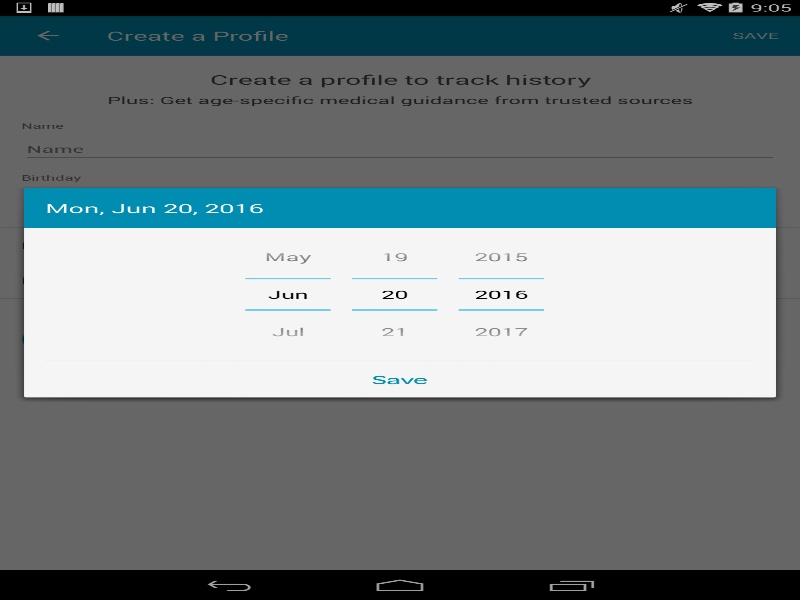Button: (24, 361, 776, 397), (458, 238, 544, 279), (458, 309, 544, 350), (245, 238, 330, 279), (245, 309, 330, 350), (352, 238, 437, 279), (352, 309, 437, 350)
Input: (458, 279, 544, 309), (245, 279, 330, 309), (352, 279, 437, 309)
